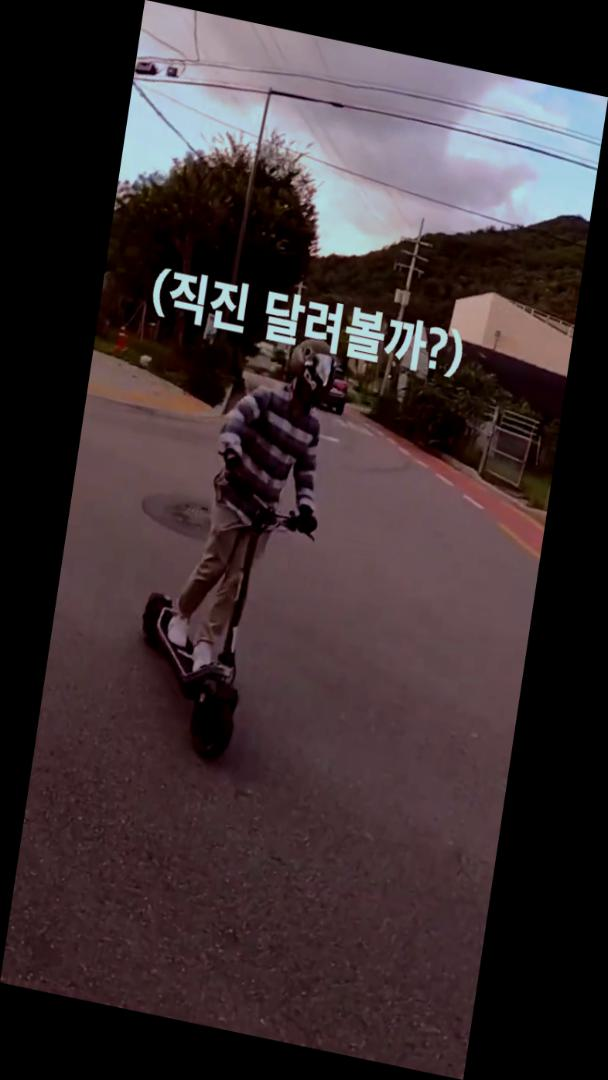helmet: (121, 311, 345, 778)
